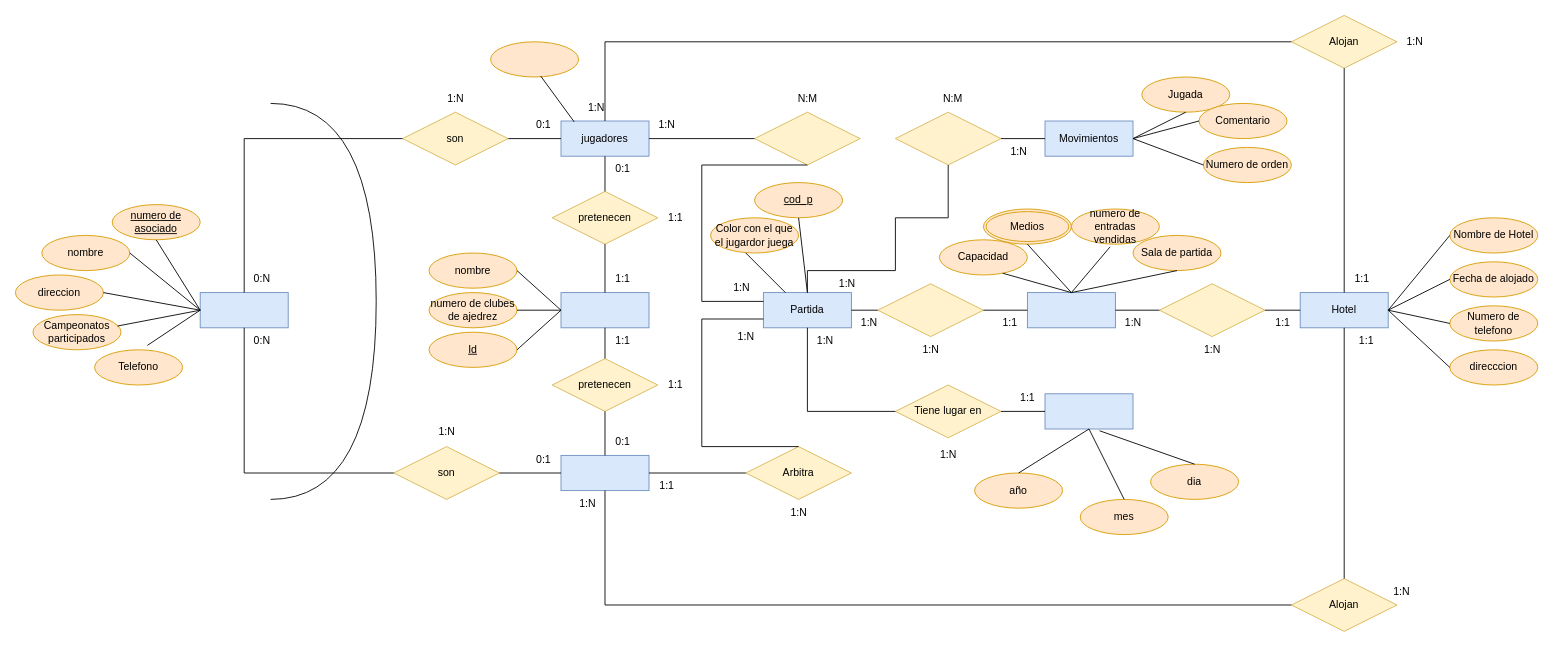
This 1553x647 diagram has some shape labels left out. The shapes that lost their labels are listed below. From the top down, each one's box as (x1, y1, x2, y2) in pixels, then its label:
(490, 41, 579, 77): Nivel
(754, 111, 860, 165): juegan
(895, 111, 1001, 165): registra
(199, 292, 288, 328): Participantes
(560, 292, 649, 328): pais
(877, 283, 983, 337): Desarollan
(1027, 292, 1115, 328): Salas
(1159, 283, 1265, 337): tiene
(1044, 393, 1133, 429): jornadas
(560, 455, 649, 491): arbitros
